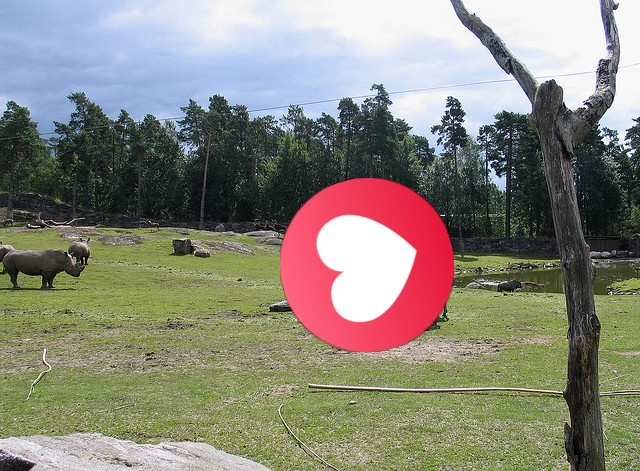love: (280, 178, 454, 352)
